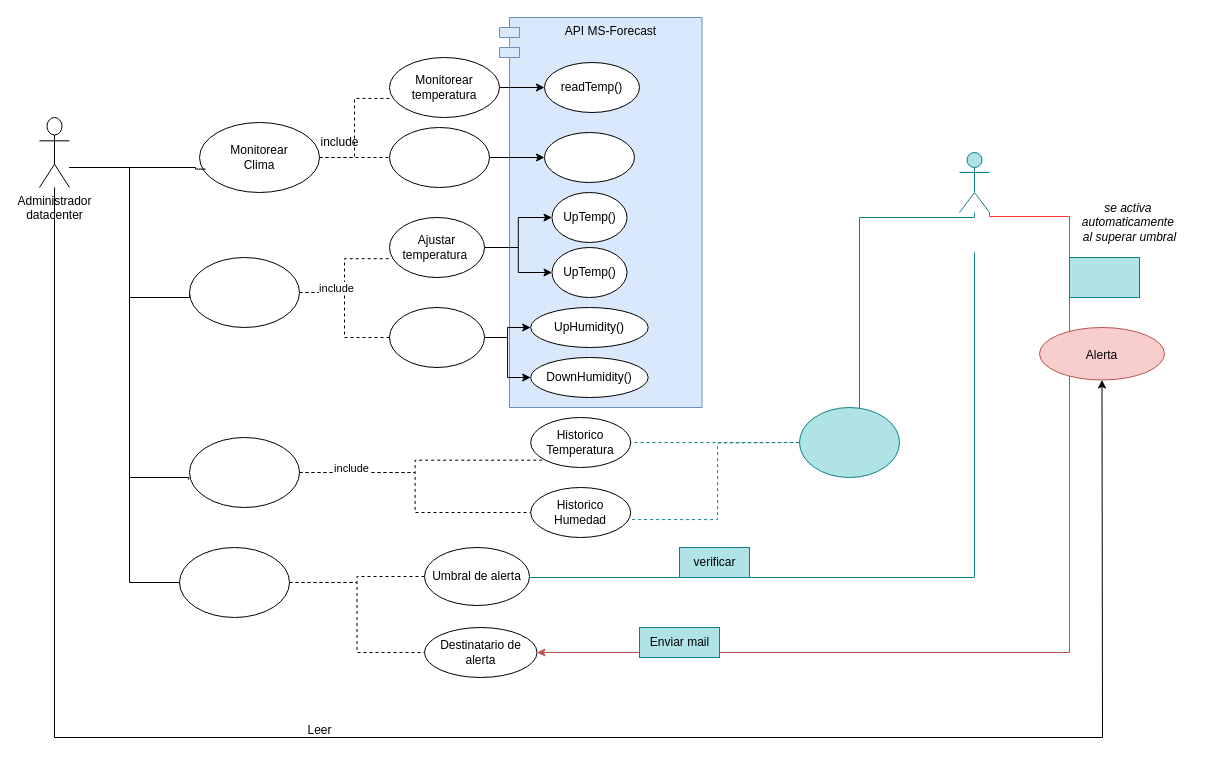
Some shapes in this 1206 by 763 pixel diagram are drawn without their labels. Here are the shapes that lost their labels. From the top down, the box of each, then its label:
(388, 126, 490, 188): Monitorear Humedad
(544, 132, 634, 182): readHumidity()
(958, 152, 990, 212): Sistema
(188, 256, 300, 328): Modificar Clima
(1068, 256, 1140, 298): Generar
(388, 306, 484, 368): Ajustar humedad
(798, 406, 900, 478): Registrar historico
(188, 436, 300, 508): Consultar Histórico
(178, 546, 290, 618): Configurar Alertas
